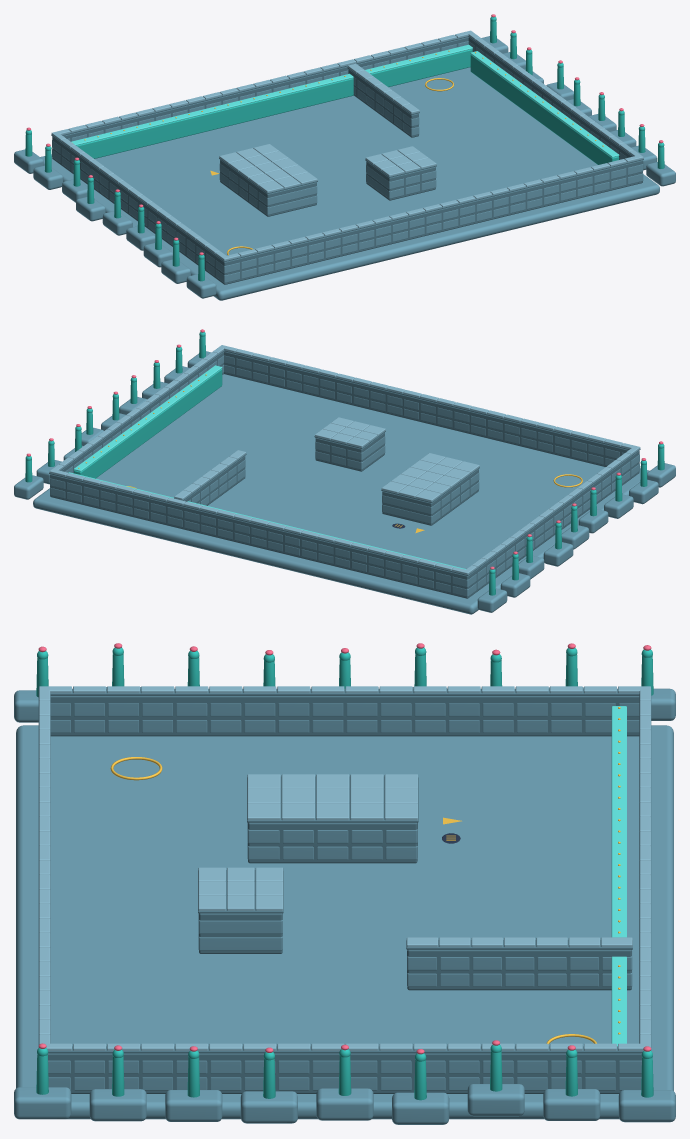
Rendered from dock.gltf.
3 renders of one model, top to bottom at view 1: azimuth 30°, elevation 25°; view 2: azimuth 150°, elevation 25°; view 3: azimuth 270°, elevation 25°, orthographic. The views are drawn at different scales.
Parts seen in each view (by area): view 1: Raised arena foundation, SOLID 7 reflector, SOLID 1 border, SOLID 8 reflector, SOLID crown 7 reflector, SOLID 0 border, SOLID 2 border, SOLID crown 8 reflector, SOLID 4 cover, SOLID 3 border, SOLID crown 1 border, SOLID crown 0 border (+13 smaller); view 2: Raised arena foundation, SOLID 0 border, SOLID 1 border, SOLID 8 reflector, SOLID 2 border, SOLID crown 8 reflector, SOLID 4 cover, SOLID 3 border, SOLID crown 0 border, SOLID crown 1 border, SOLID 5 cover, SOLID 6 cover (+11 smaller); view 3: Raised arena foundation, SOLID 2 border, SOLID 3 border, SOLID crown 7 reflector, SOLID 6 cover, SOLID 4 cover, SOLID crown 2 border, Outer retaining stone.009, Outer retaining stone.017, Outer retaining stone.011, Outer retaining stone.014, Outer retaining stone.016 (+14 smaller).
Part boxes in pixels (left/top/right/bottom): Raised arena foundation: left=40, top=67, right=659, bottom=300; SOLID 7 reflector: left=76, top=49, right=472, bottom=158; SOLID 1 border: left=222, top=160, right=642, bottom=284; SOLID 8 reflector: left=470, top=54, right=619, bottom=164; SOLID crown 7 reflector: left=71, top=44, right=472, bottom=145; SOLID 0 border: left=52, top=37, right=468, bottom=159; SOLID 2 border: left=52, top=137, right=228, bottom=284; SOLID crown 8 reflector: left=470, top=51, right=619, bottom=157; SOLID 4 cover: left=220, top=160, right=316, bottom=216; SOLID 3 border: left=468, top=37, right=642, bottom=183; SOLID crown 1 border: left=222, top=159, right=643, bottom=261; SOLID crown 0 border: left=62, top=35, right=468, bottom=135; Raised arena foundation: left=33, top=374, right=649, bottom=614; SOLID 0 border: left=50, top=475, right=469, bottom=598; SOLID 1 border: left=224, top=351, right=639, bottom=473; SOLID 8 reflector: left=74, top=369, right=222, bottom=478; SOLID 2 border: left=464, top=451, right=639, bottom=598; SOLID crown 8 reflector: left=73, top=365, right=222, bottom=471; SOLID 4 cover: left=382, top=469, right=478, bottom=525; SOLID 3 border: left=50, top=351, right=223, bottom=496; SOLID crown 0 border: left=50, top=473, right=470, bottom=575; SOLID crown 1 border: left=224, top=350, right=640, bottom=451; SOLID 5 cover: left=315, top=432, right=384, bottom=471; SOLID 6 cover: left=184, top=456, right=245, bottom=505; Raised arena foundation: left=16, top=725, right=673, bottom=1119; SOLID 2 border: left=50, top=696, right=639, bottom=736; SOLID 3 border: left=48, top=1053, right=641, bottom=1093; SOLID crown 7 reflector: left=611, top=706, right=626, bottom=1046; SOLID 6 cover: left=407, top=949, right=631, bottom=990; SOLID 4 cover: left=248, top=822, right=417, bottom=863; SOLID crown 2 border: left=38, top=688, right=651, bottom=695; Outer retaining stone.009: left=618, top=1090, right=675, bottom=1122; Outer retaining stone.017: left=14, top=1087, right=71, bottom=1119; Outer retaining stone.011: left=467, top=1084, right=524, bottom=1116; Outer retaining stone.014: left=240, top=1091, right=297, bottom=1123; Outer retaining stone.016: left=89, top=1089, right=146, bottom=1121.
Bounding box in the file's own units: 24.29 × 2.26 × 16.2.
